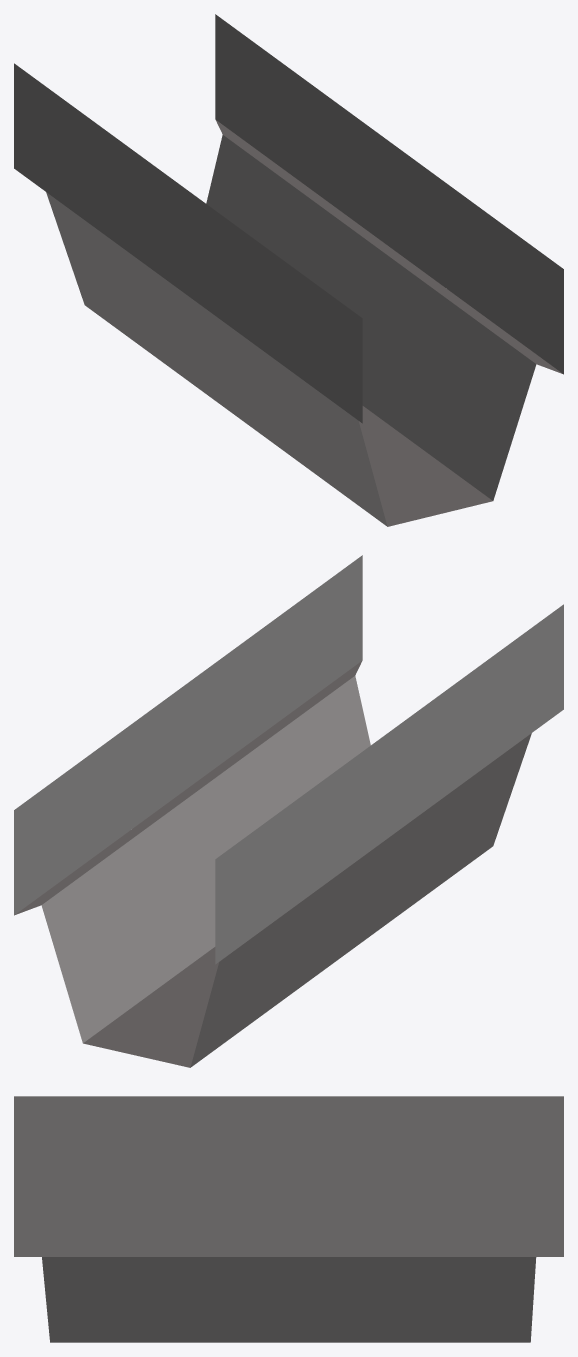
File: middle_channel.glb
The picture shows the model from 3 angles, top to bottom: view 1: azimuth 30°, elevation 25°; view 2: azimuth 150°, elevation 25°; view 3: azimuth 270°, elevation 25°; orthographic projection. The views are drawn at different scales.
Parts seen in each view (by area): view 1: middle; view 2: middle; view 3: middle.
Boxes of the visible parts, <box> form: middle: <box>14,14,563,526</box>; middle: <box>14,555,563,1067</box>; middle: <box>14,1096,563,1342</box>.
Size of the model in its own units: 4 by 4.5 by 12.
Materials: 1 (1 with a texture image).
